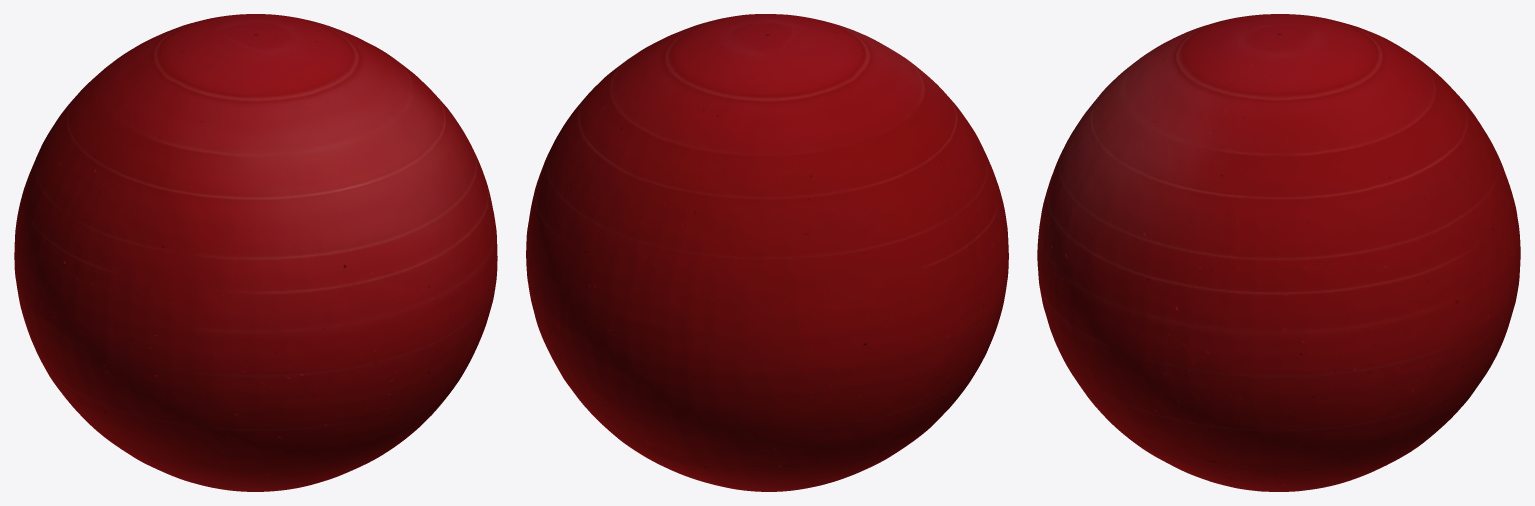
The model's file is red_ball.glb.
3 views of the same model, side by side, from view 1: azimuth 30°, elevation 25°; view 2: azimuth 150°, elevation 25°; view 3: azimuth 270°, elevation 25° (orthographic).
Parts seen in each view (by area): view 1: world; view 2: world; view 3: world.
Part boxes in pixels (box(x1,y1,x2,y2)): world: box(14, 14, 497, 491); world: box(526, 14, 1008, 491); world: box(1037, 14, 1520, 491).
Size of the model in its own units: 1 by 0.9983 by 0.9974.
Materials: 1 (1 with a texture image).
